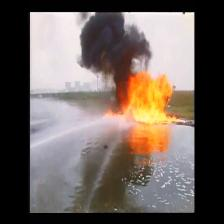fire: (128, 78, 170, 122)
smoke: (80, 13, 137, 73)
